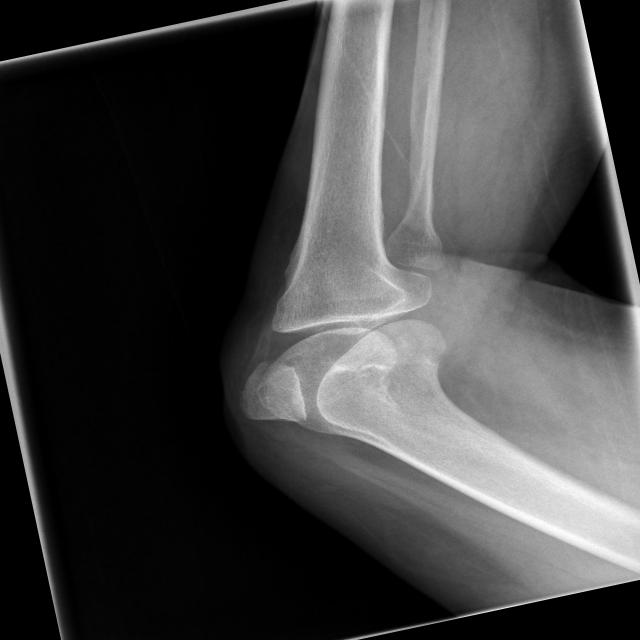Knee: (208, 232, 457, 440)
